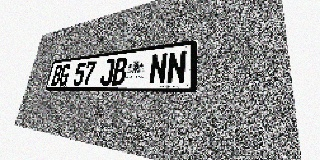5: (72, 62, 87, 86)
7: (82, 61, 97, 86)
B: (111, 57, 128, 85), (51, 65, 63, 86)
G: (58, 64, 71, 86)
J: (99, 59, 115, 85)
N: (166, 50, 187, 84), (148, 52, 168, 85)
